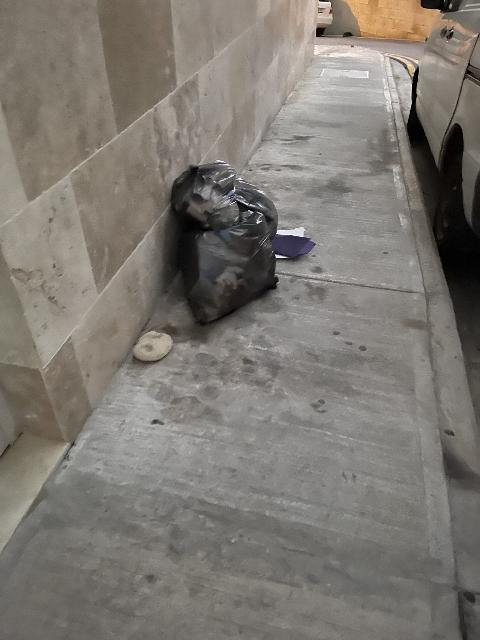Mixed -Black-: (259, 262, 262, 266)
Other: (272, 227, 315, 258)
Recyclable -Grey-: (171, 161, 278, 325)
